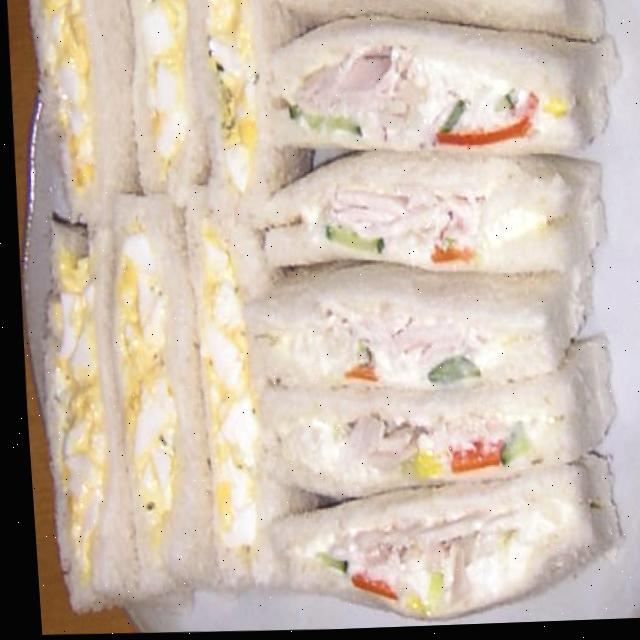三明治: (1, 0, 616, 640)
